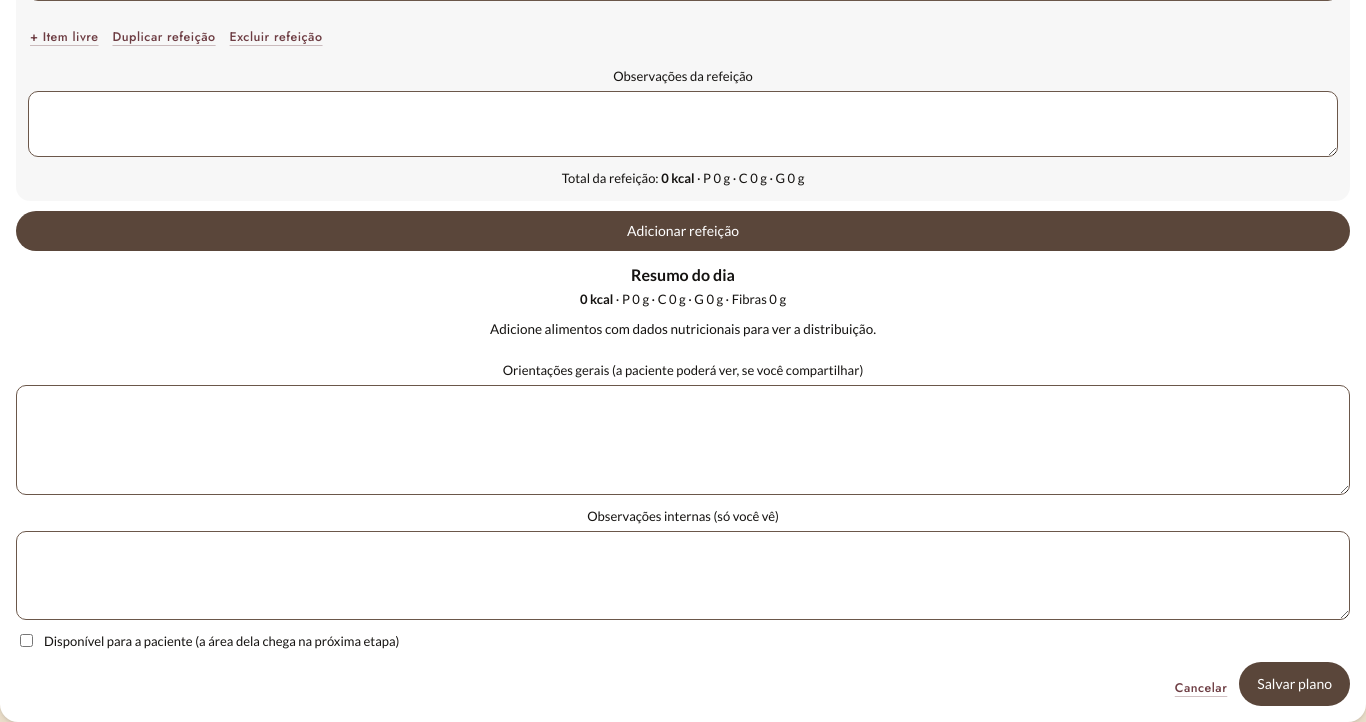
PlanEditor — fluxo da nutricionista › exige nome do plano para salvar e duplica uma refeição
The image size is (1366, 722).
(page scrolled)
Step 1. Click the button "Salvar plano" → (1295, 684), box x1=1239 y1=662 x2=1350 y2=706
(page scrolled)
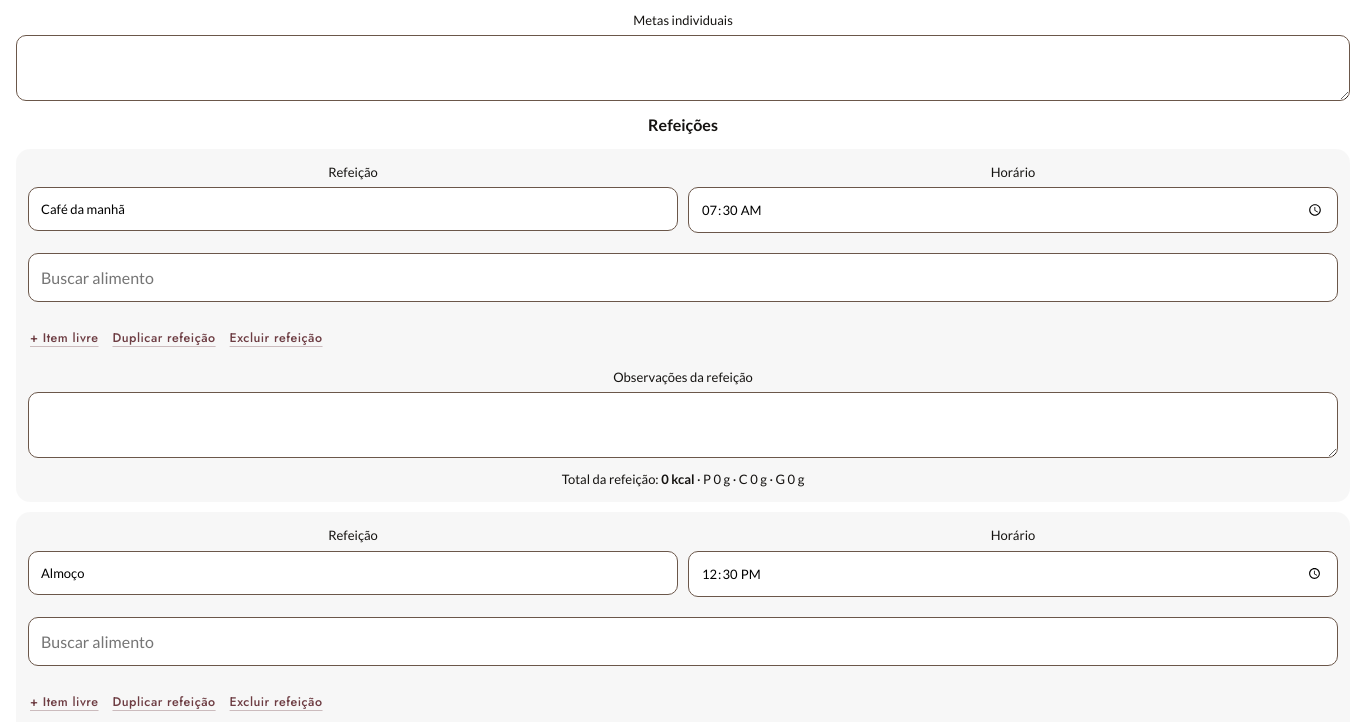
Step 2. Click the 1st button "Duplicar refeição" → (164, 338), box x1=110 y1=320 x2=218 y2=356
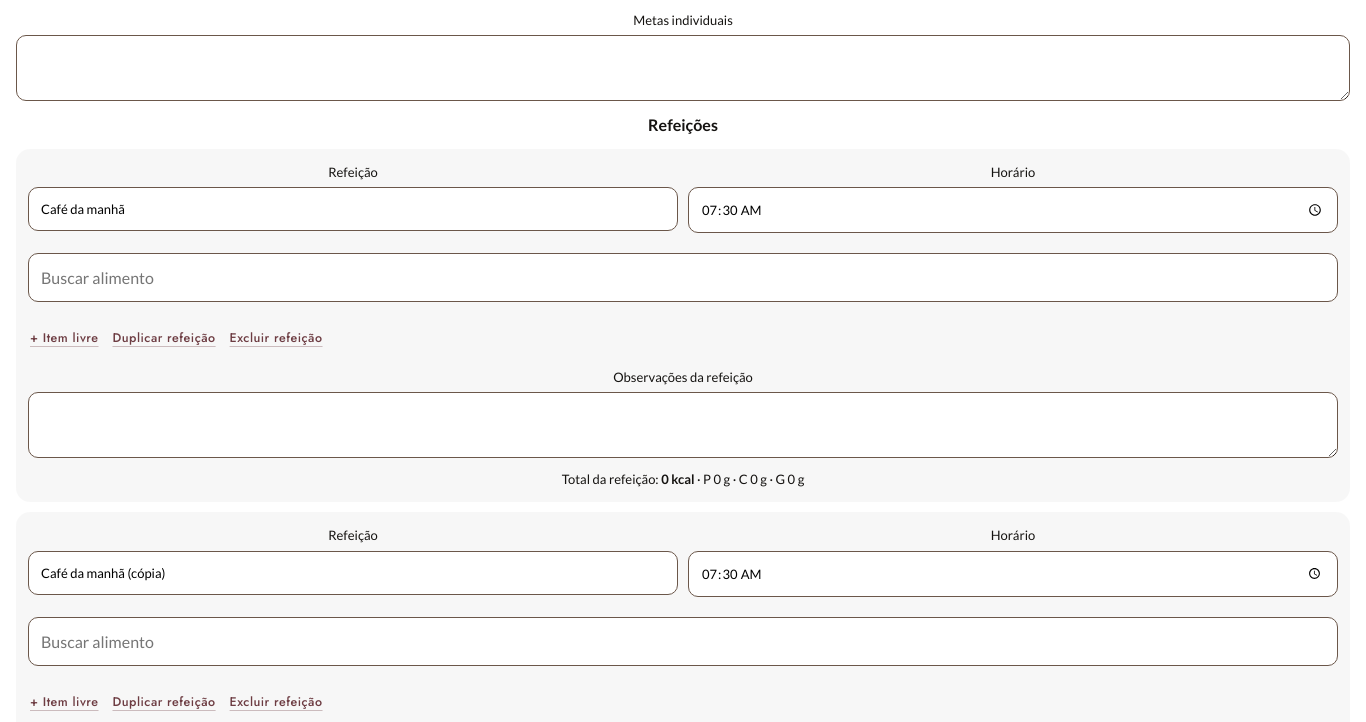
Now the number of buttons "Duplicar refeição" is 4
